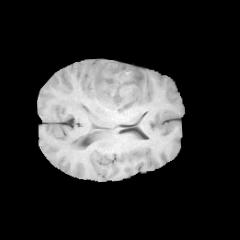glioma: (89, 59, 153, 114)
